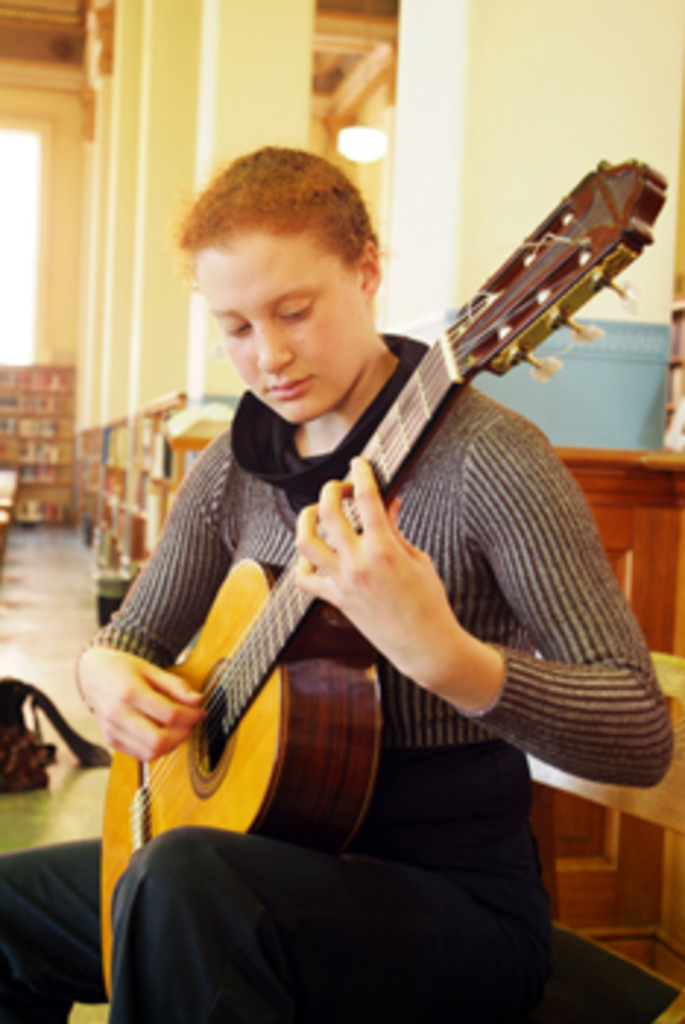Human-face: (193, 240, 372, 421)
